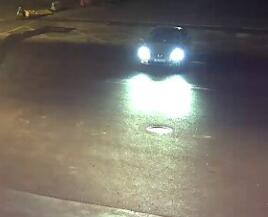car: (135, 21, 192, 72)
